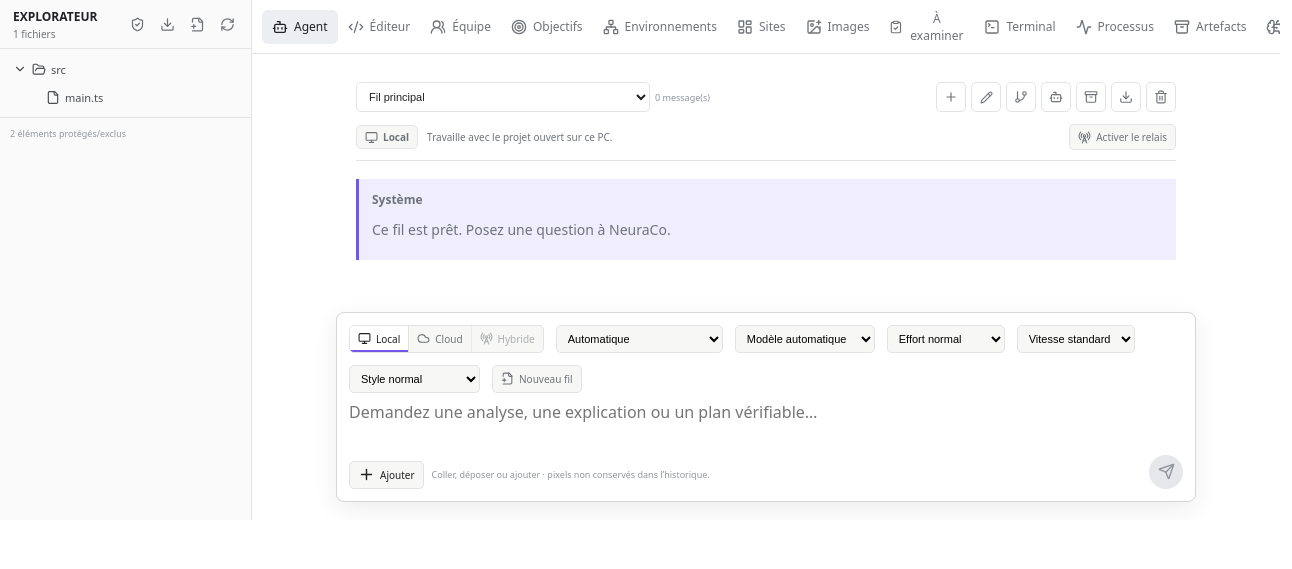
NeuraCo project workspace › validates the active project and exports its real files as a ZIP
Click the button titled "Valider le projet": x=137, y=24 [123,10,151,38]
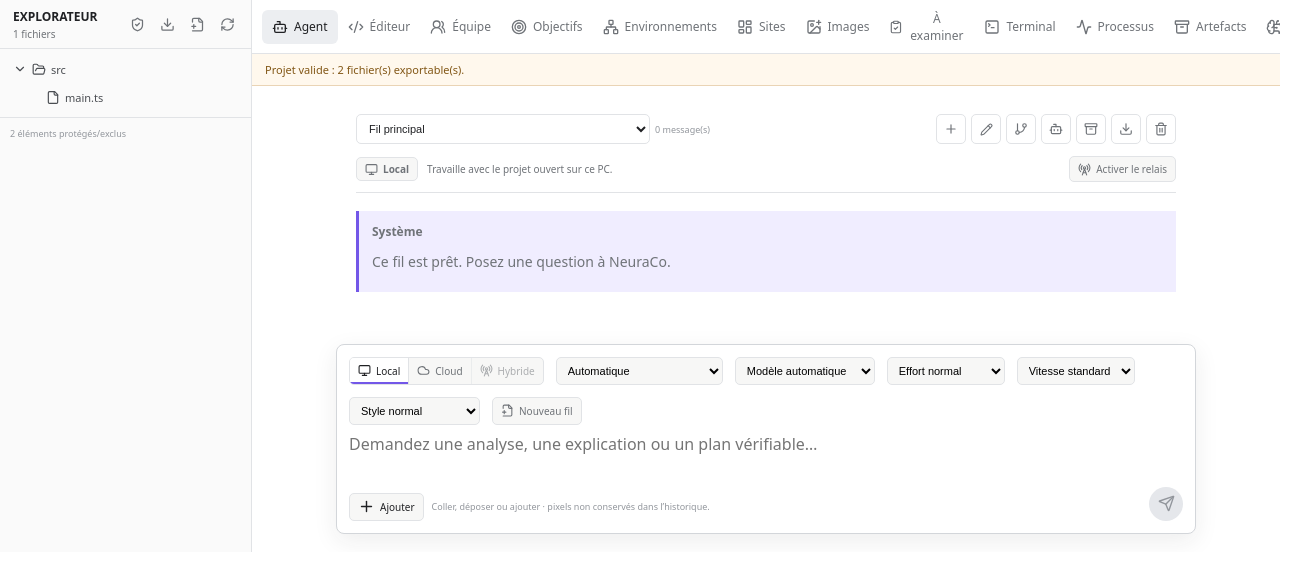
Expected: the text "Projet valide : 2 fichier(s) exportable(s)." is shown, [252,54,1280,86]
Click the button titled "Exporter le projet en ZIP": x=167, y=24 [153,10,181,38]
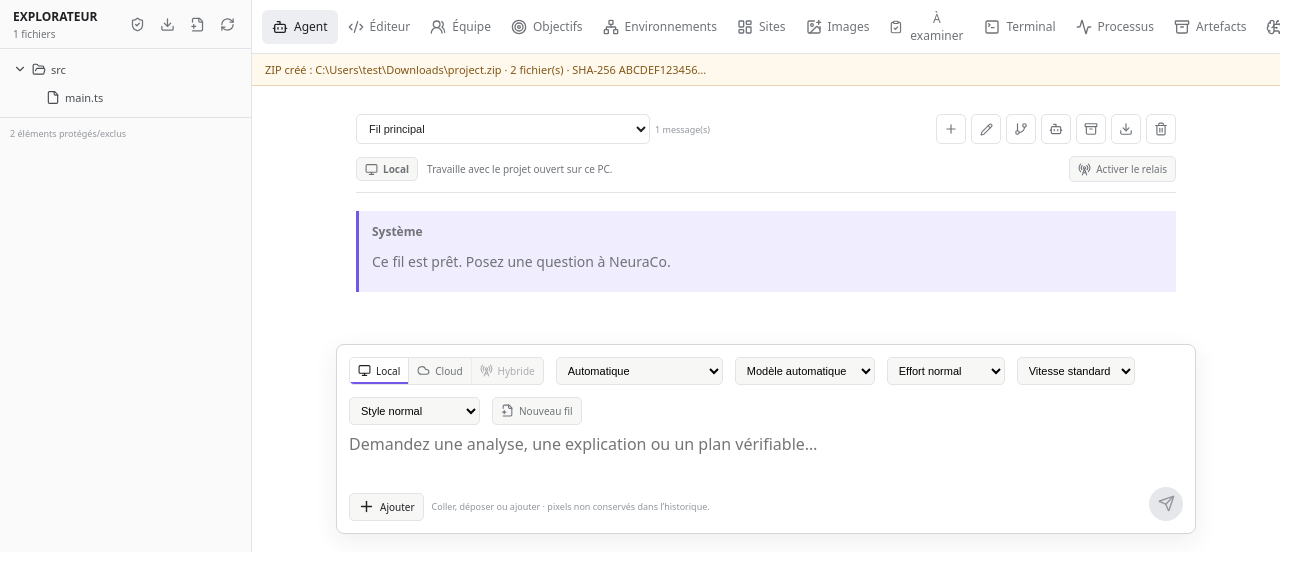
Expected: the text "project.zip" is shown, [265,62,706,77]
Expected: the text "SHA-256 ABCDEF123456" is shown, [265,62,706,77]
